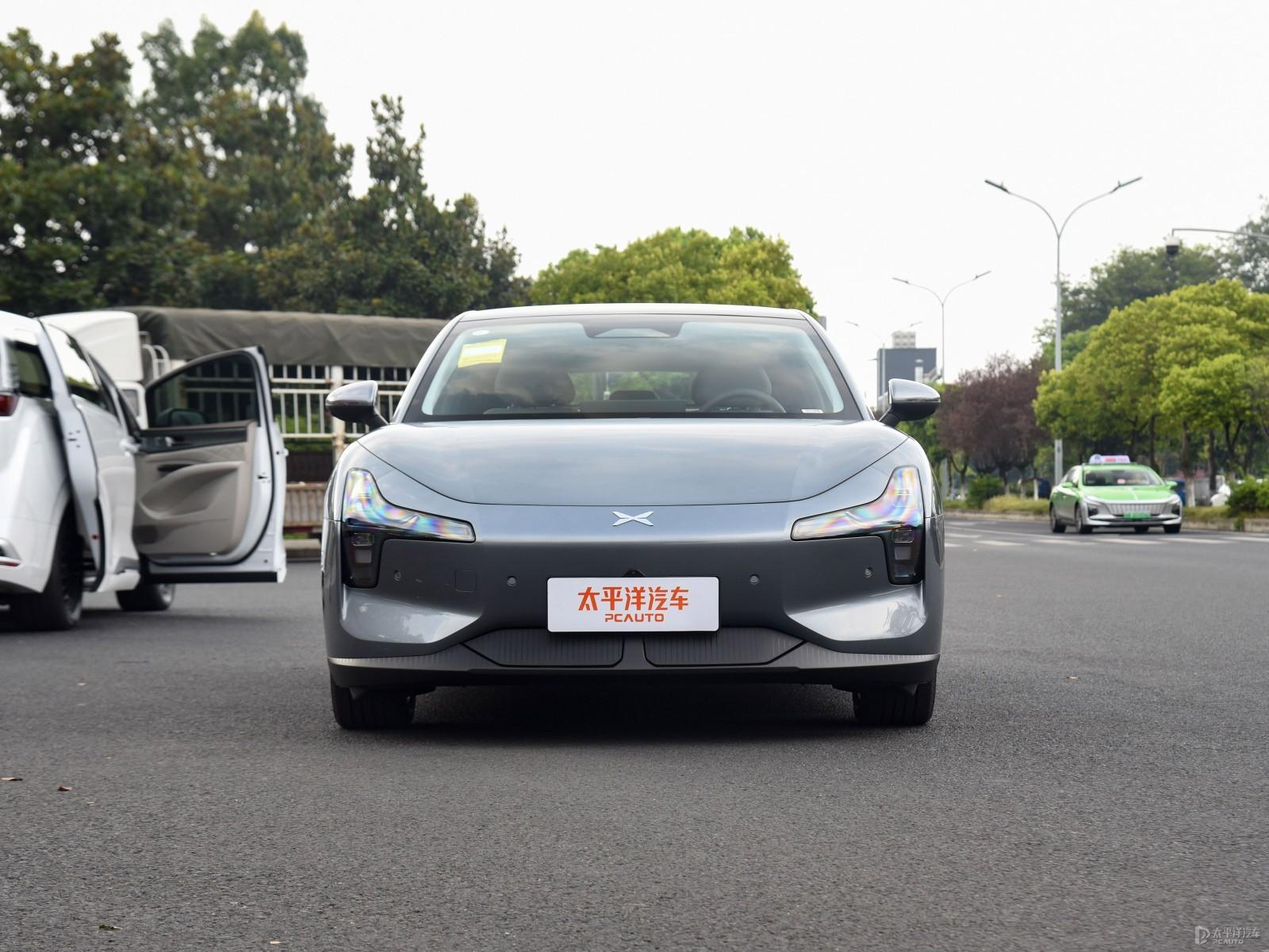XPeng Motors: (612, 511, 656, 527)
